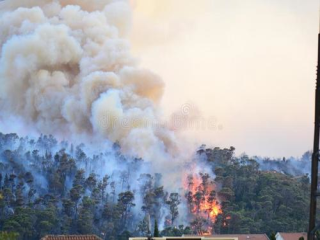fire: (185, 176, 225, 227)
smoke: (5, 7, 195, 181)
